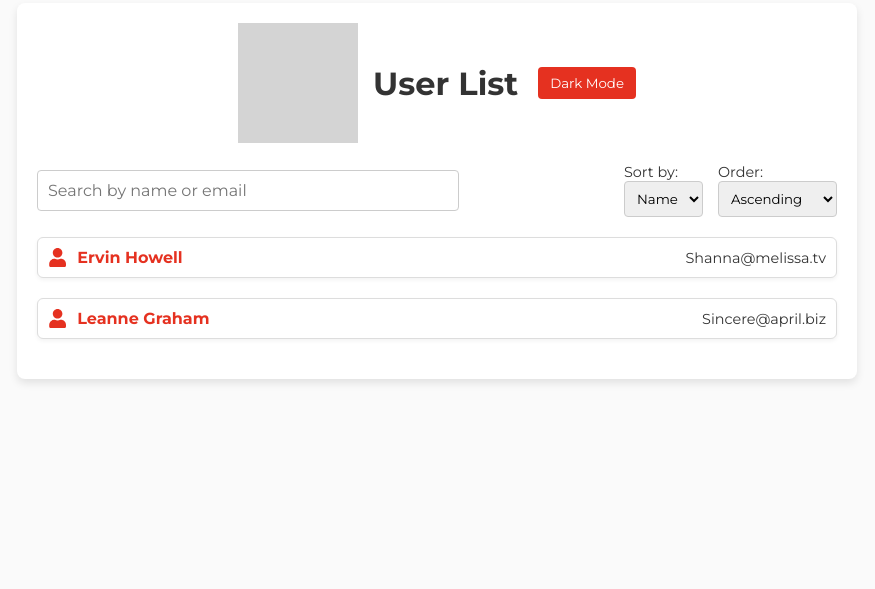
Scenario: toggles user details when clicking on a user header
Note: Click the header (user name) to show details
Click the text "Leanne Graham" at [143, 319], box [77,309,210,328]
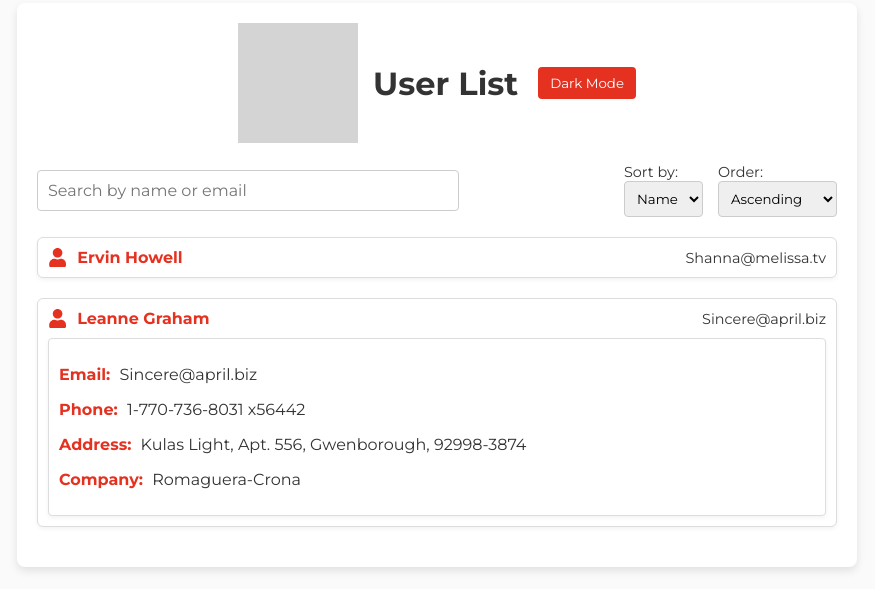
Expected: the text "Address: Kulas Light, Apt. 556, Gwenborough, 92998-3874" is shown, [59,435,526,454]
Note: Click again to collapse details
Click the text "Leanne Graham" at [143, 319], box [77,309,210,328]
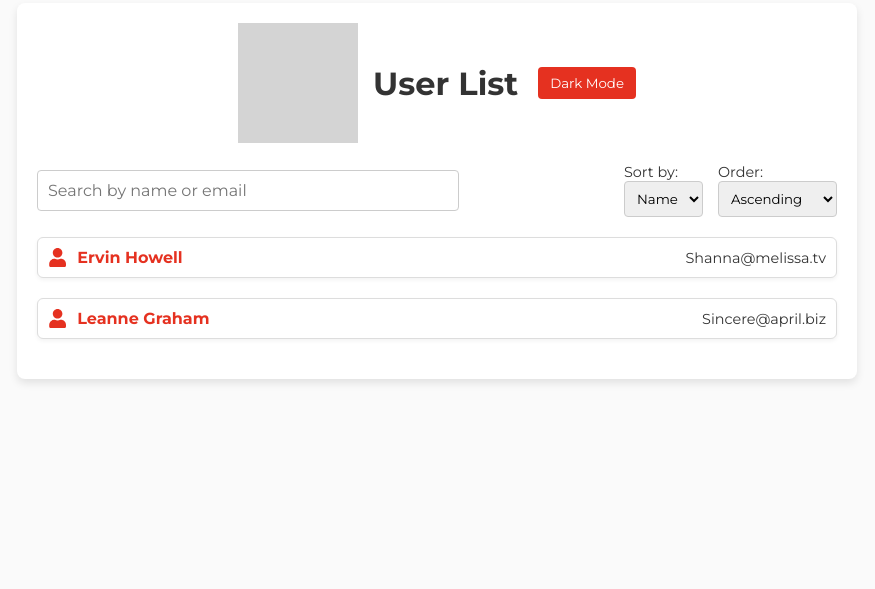
Expected: the text "Kulas Light" is gone
